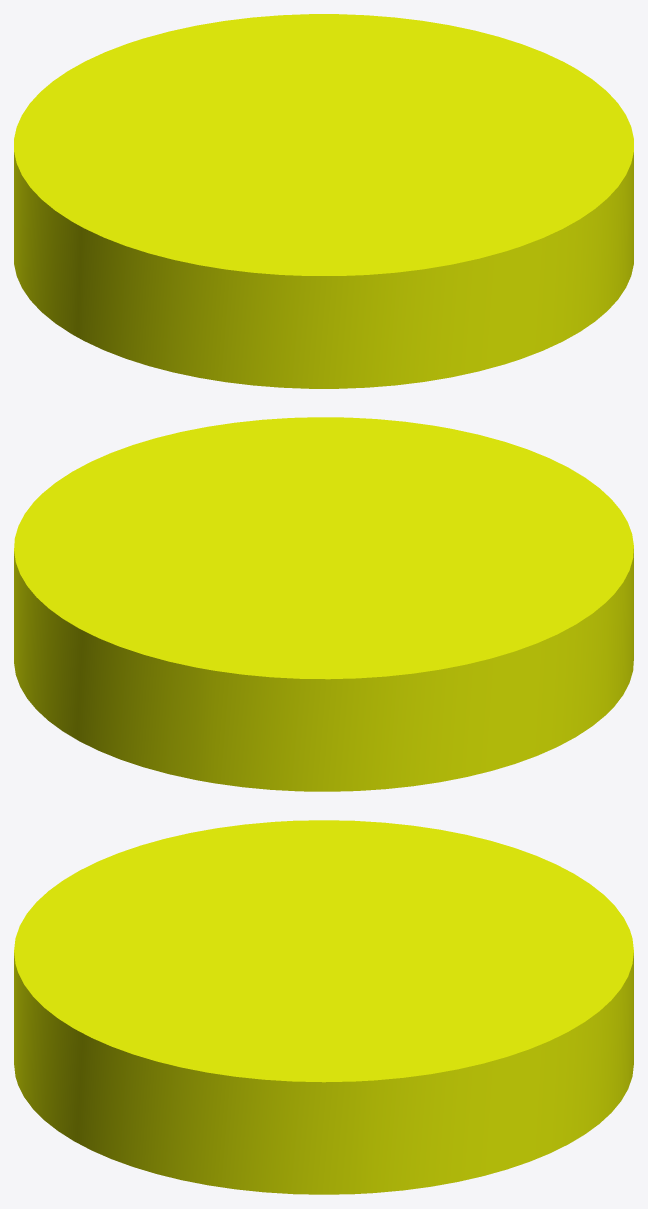
The model's file is ficha_amarilla.glb.
3 views of the same model, one above another, from view 1: azimuth 30°, elevation 25°; view 2: azimuth 150°, elevation 25°; view 3: azimuth 270°, elevation 25° (orthographic).
Visible parts, largest first — view 1: ficha_amarilla; view 2: ficha_amarilla; view 3: ficha_amarilla.
Part boxes in pixels (x1,y1,x2,y2): ficha_amarilla: (14, 14, 633, 388); ficha_amarilla: (14, 417, 633, 791); ficha_amarilla: (14, 820, 633, 1194).
Size of the model in its own units: 0.0176 by 0.00353 by 0.0176.
